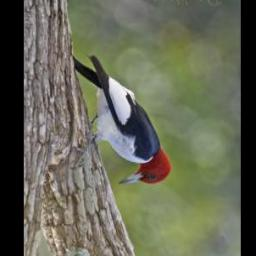Woodpecker: (67, 53, 175, 190)
